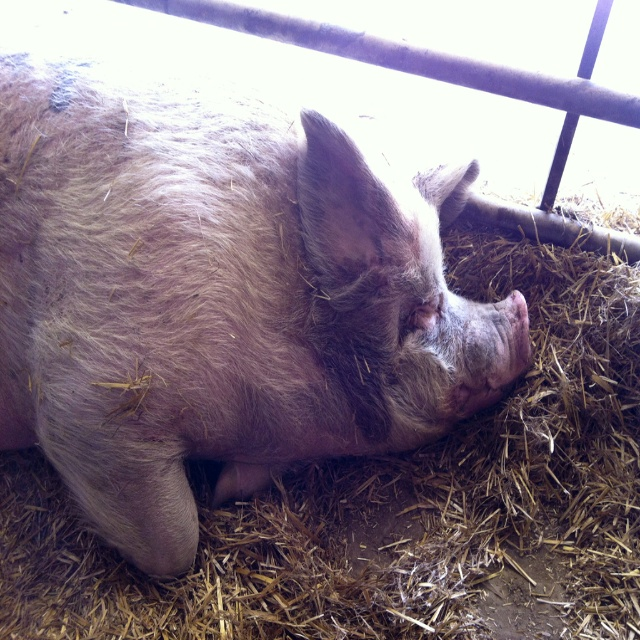Pig: (0, 52, 531, 581)
